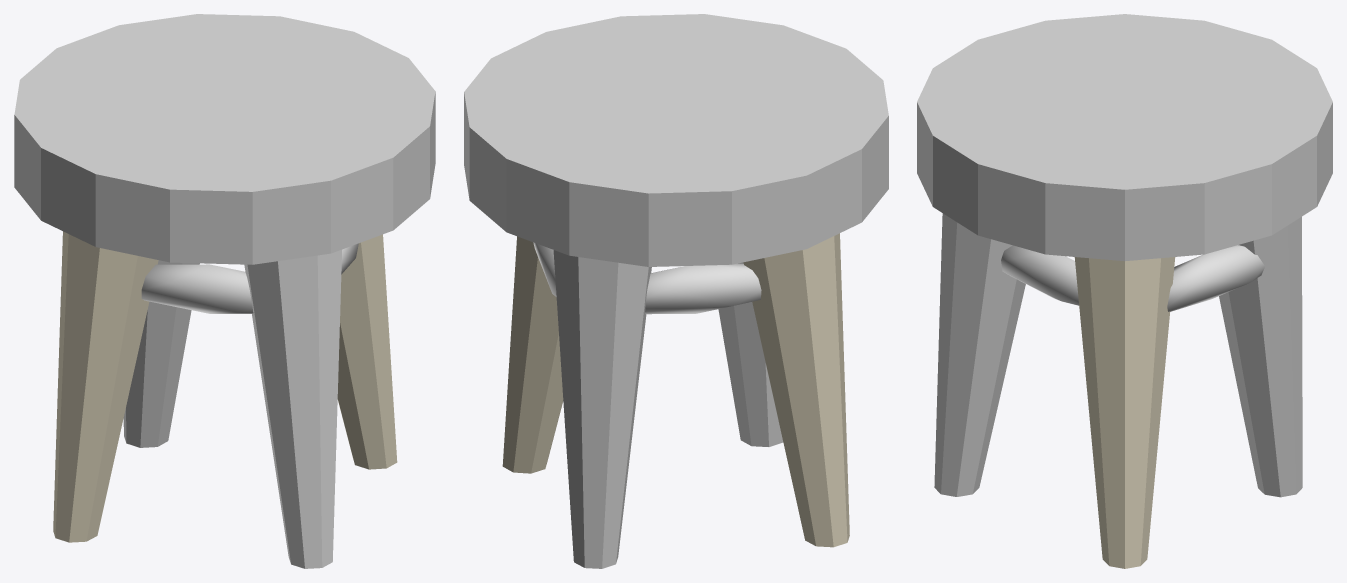
Rendered from Taboret.fbx.
3 renders of one model, left to right at view 1: azimuth 30°, elevation 25°; view 2: azimuth 150°, elevation 25°; view 3: azimuth 270°, elevation 25°, orthographic. The views are drawn at different scales.
Visible parts, largest first — view 1: Taboret, Noga.003, Noga.002, Noga.004, Noga.001, Icosphere.003; view 2: Taboret, Noga.001, Noga.002, Noga.004, Noga.003, Icosphere, Icosphere.001; view 3: Taboret, Noga.004, Noga.003, Noga.001, Icosphere.001, Icosphere.002.
Part boxes in pixels (x1,y1,x2,y2): Taboret: (14, 14, 435, 264); Noga.003: (244, 249, 341, 568); Noga.002: (53, 231, 158, 542); Noga.004: (337, 234, 397, 469); Noga.001: (123, 260, 199, 447); Icosphere.003: (141, 264, 253, 313); Taboret: (464, 14, 888, 266); Noga.001: (553, 250, 651, 568); Noga.002: (743, 233, 849, 547); Noga.004: (502, 236, 563, 473); Noga.003: (718, 262, 783, 446); Icosphere: (645, 263, 761, 314); Icosphere.001: (533, 242, 556, 296); Taboret: (917, 14, 1332, 261); Noga.004: (1074, 257, 1175, 568); Noga.003: (934, 213, 1025, 496); Noga.001: (1219, 217, 1302, 497); Icosphere.001: (1167, 245, 1264, 311); Icosphere.002: (1001, 245, 1078, 305).
Bounding box in the file's own units: 1 × 1.02 × 1.
